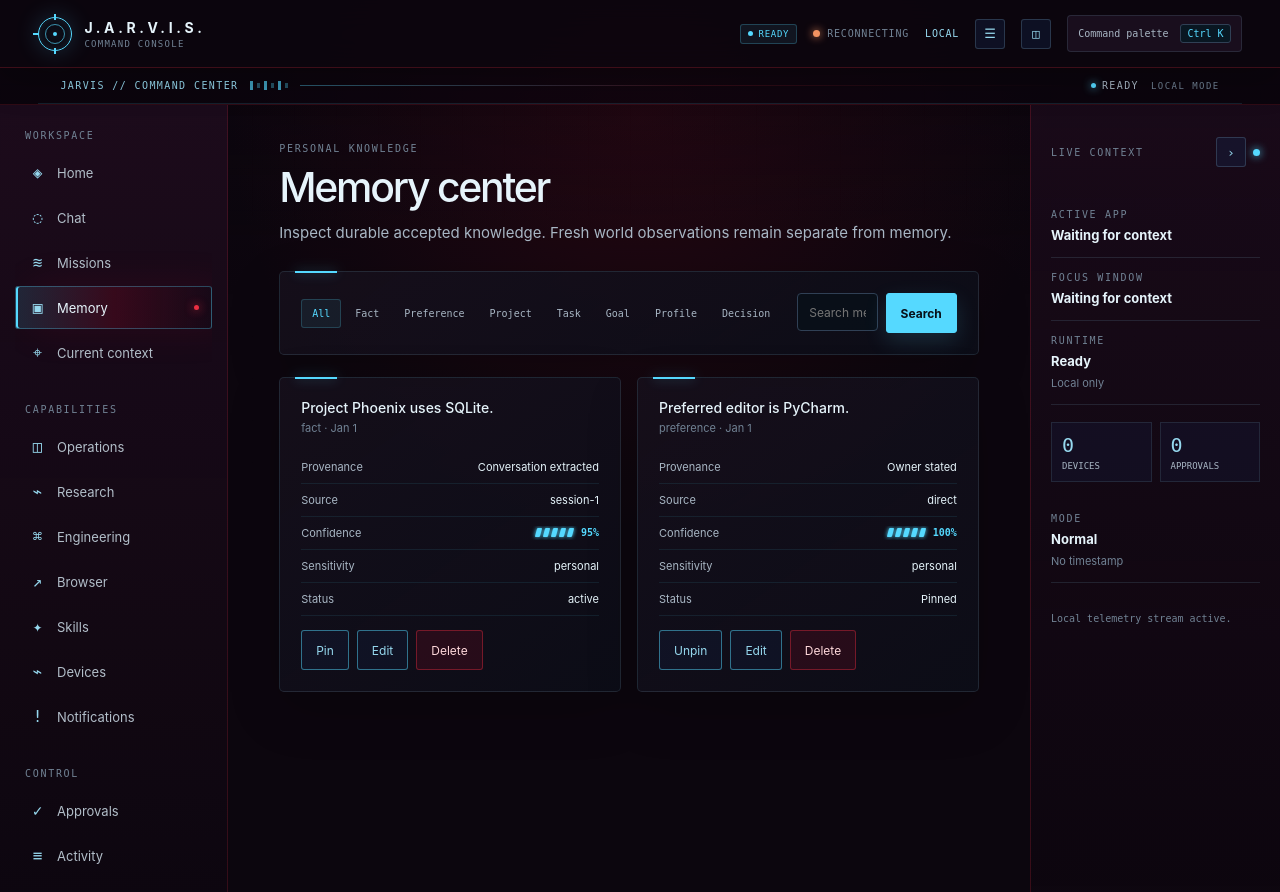
Phase 16 Frontend Surfaces & Missions / Memory Contracts › renders MemoryScreen with category filtering, search, and provenance tags
The width and height of the screenshot is (1280, 892).
Expected: the heading "Project Phoenix uses SQLite." is shown, [301,399,494,416]
Expected: the heading "Preferred editor is PyCharm." is shown, [659,399,849,416]
Note: Filter by category
Click the button "Preference".
click(434, 313)  # box [393,298,476,328]
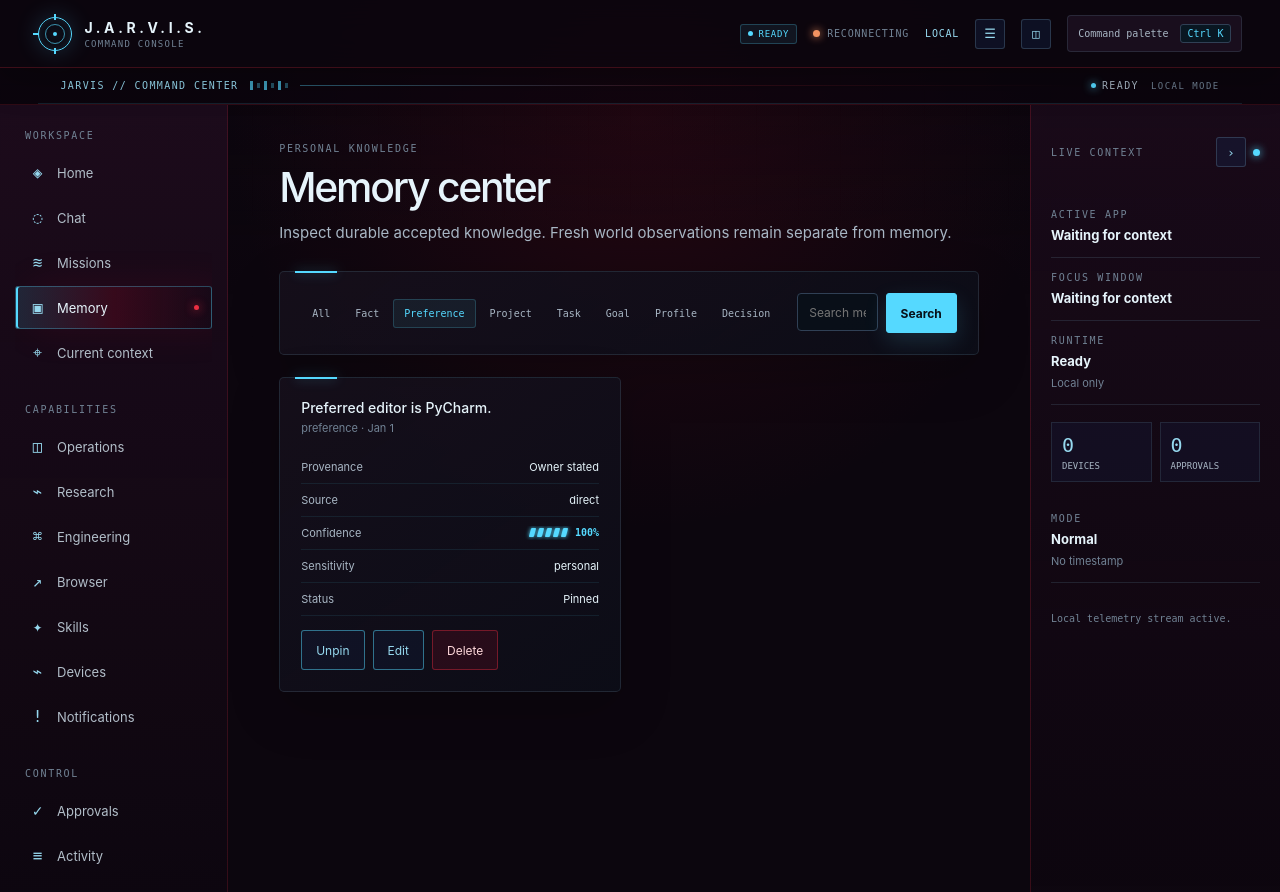
Expected: the heading "Preferred editor is PyCharm." is shown, [301,399,492,416]
Now the heading "Project Phoenix uses SQLite." is gone
